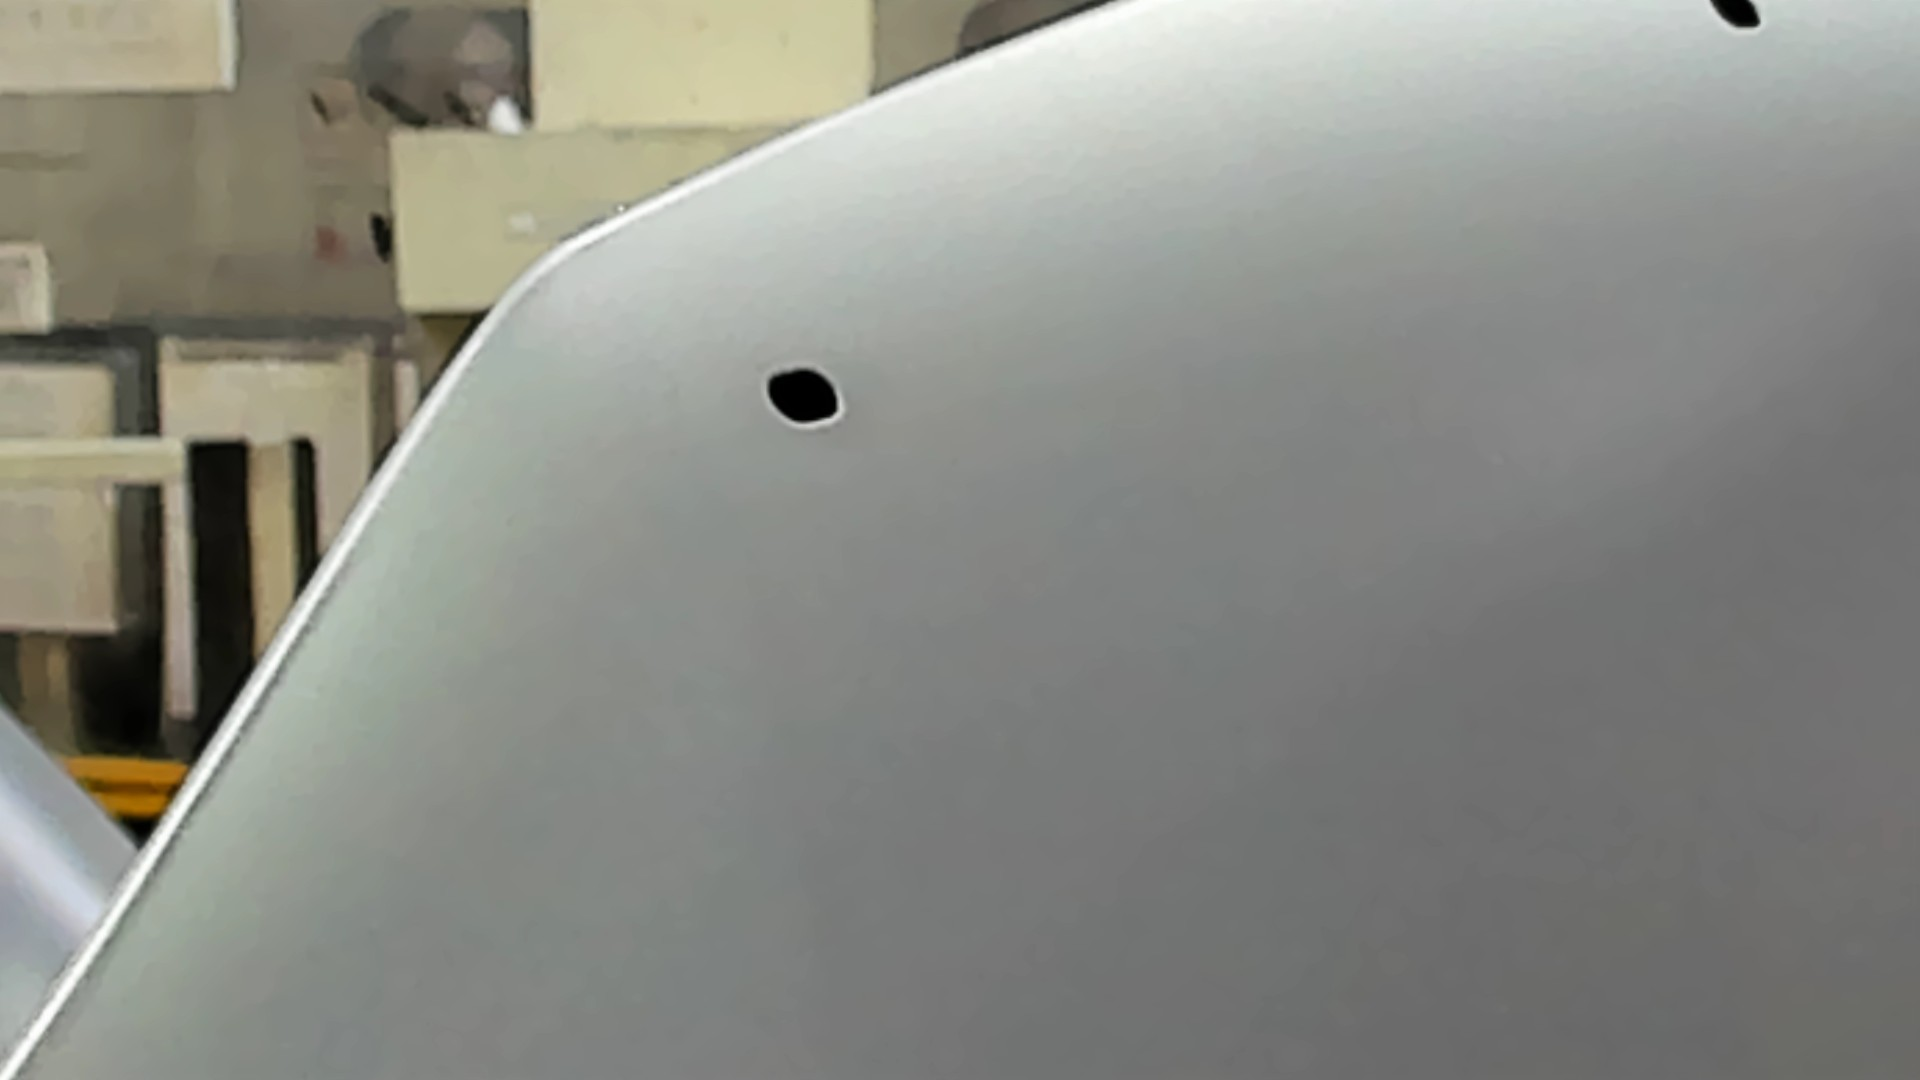amorfo: (754, 363, 852, 433), (1706, 1, 1766, 37)
